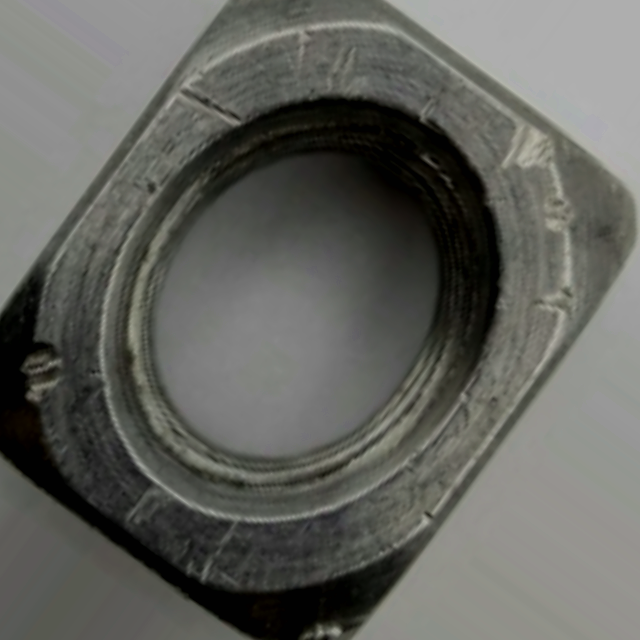defect: (188, 511, 245, 591), (169, 78, 249, 131), (15, 339, 68, 404), (501, 123, 560, 165), (530, 281, 584, 321), (130, 475, 171, 525), (538, 198, 583, 232), (329, 44, 359, 90), (421, 504, 444, 531)
